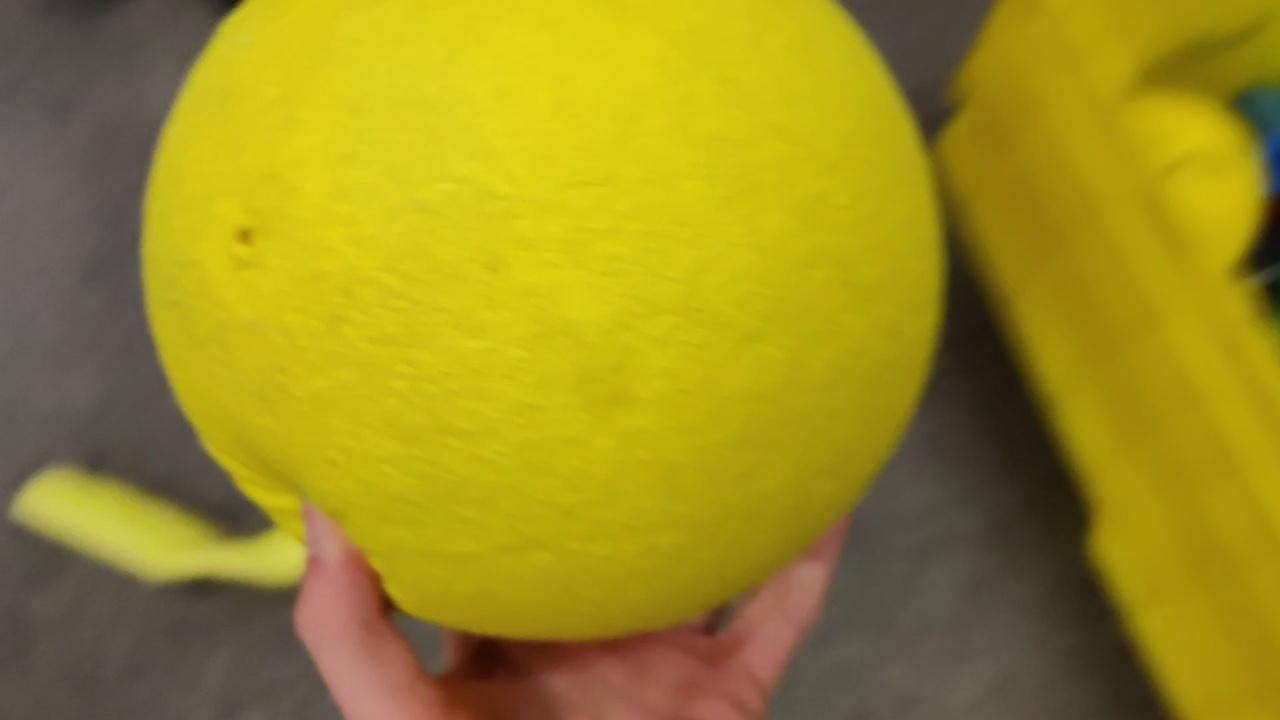Ball: (144, 2, 952, 635)
